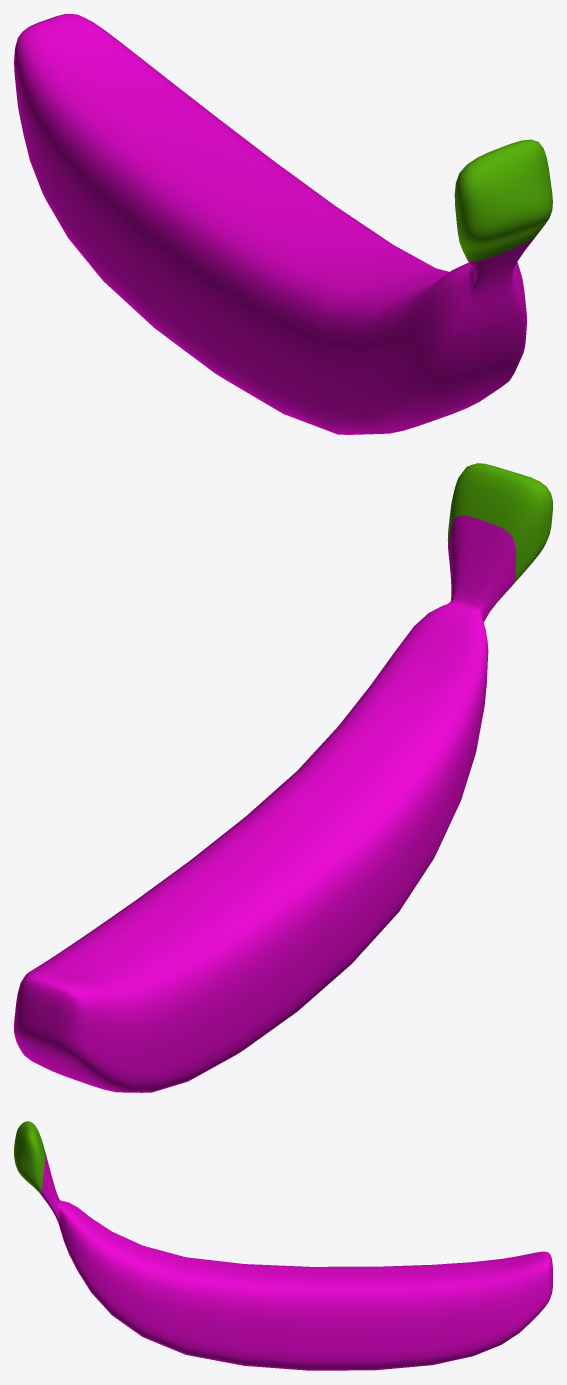
File: banana_weird.fbx
3 views of the same model, one above another, from view 1: azimuth 30°, elevation 25°; view 2: azimuth 150°, elevation 25°; view 3: azimuth 270°, elevation 25° (orthographic). The views are drawn at different scales.
Visible parts, largest first — view 1: pCube1; view 2: pCube1; view 3: pCube1.
Part boxes in pixels (x1,y1,x2,y2): pCube1: (14,14,552,434); pCube1: (14,463,552,1092); pCube1: (14,1121,552,1370).
Bounding box in the file's own units: 1.19 × 2.97 × 6.41.
